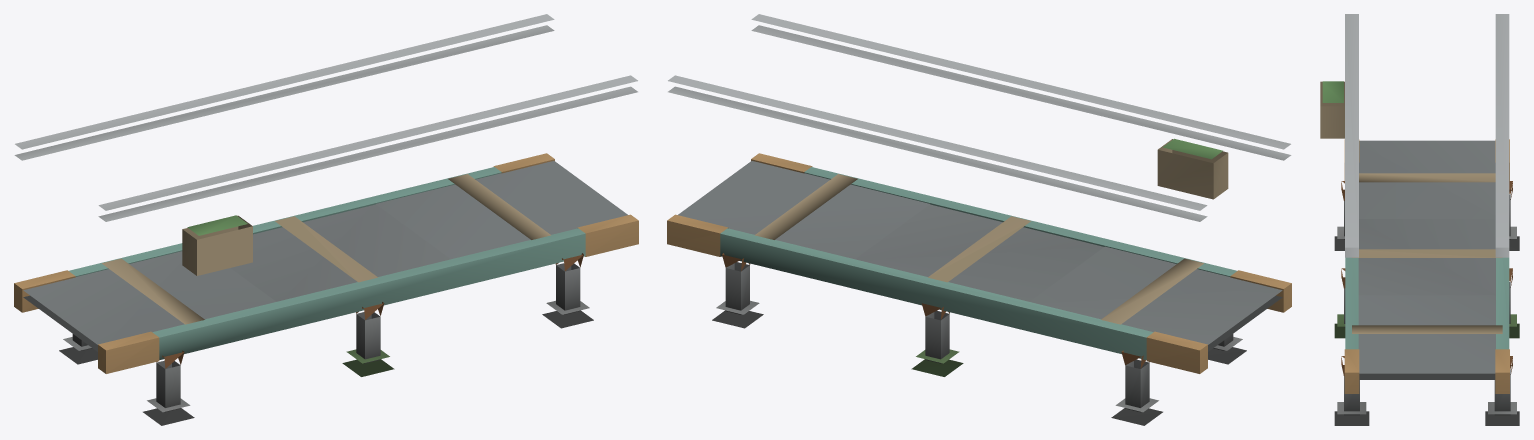
File: catwalk.lod.glb
3 renders of one model, left to right at view 1: azimuth 30°, elevation 25°; view 2: azimuth 150°, elevation 25°; view 3: azimuth 270°, elevation 25°, orthographic. The views are drawn at different scales.
Parts seen in each view (by area): view 1: catwalk.001; view 2: catwalk.001; view 3: catwalk.001.
Boxes of the visible parts, left/top/right/bottom form: catwalk.001: left=14, top=14, right=638, bottom=425; catwalk.001: left=667, top=14, right=1291, bottom=425; catwalk.001: left=1320, top=14, right=1519, bottom=425.
Bounding box in the file's own units: 4 × 1.6 × 1.44.
